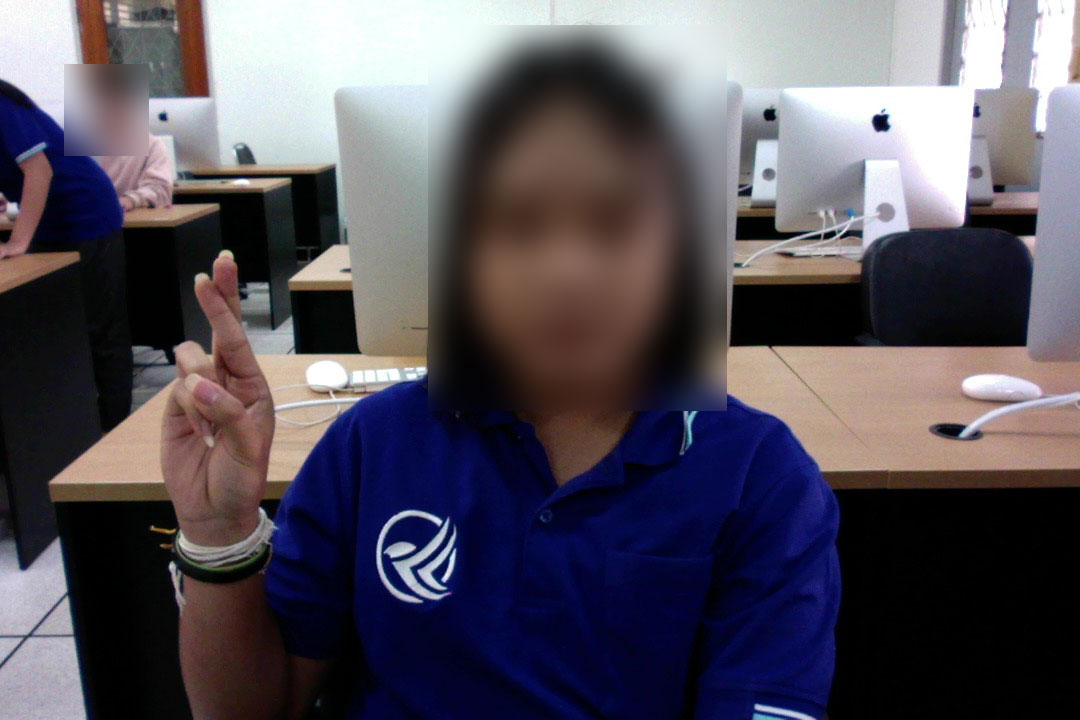rao: (151, 254, 278, 537)
